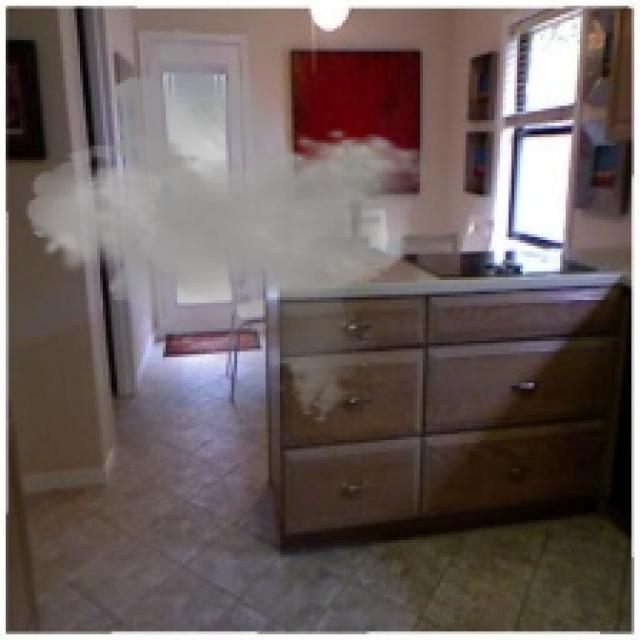smoke: (26, 26, 428, 426)
